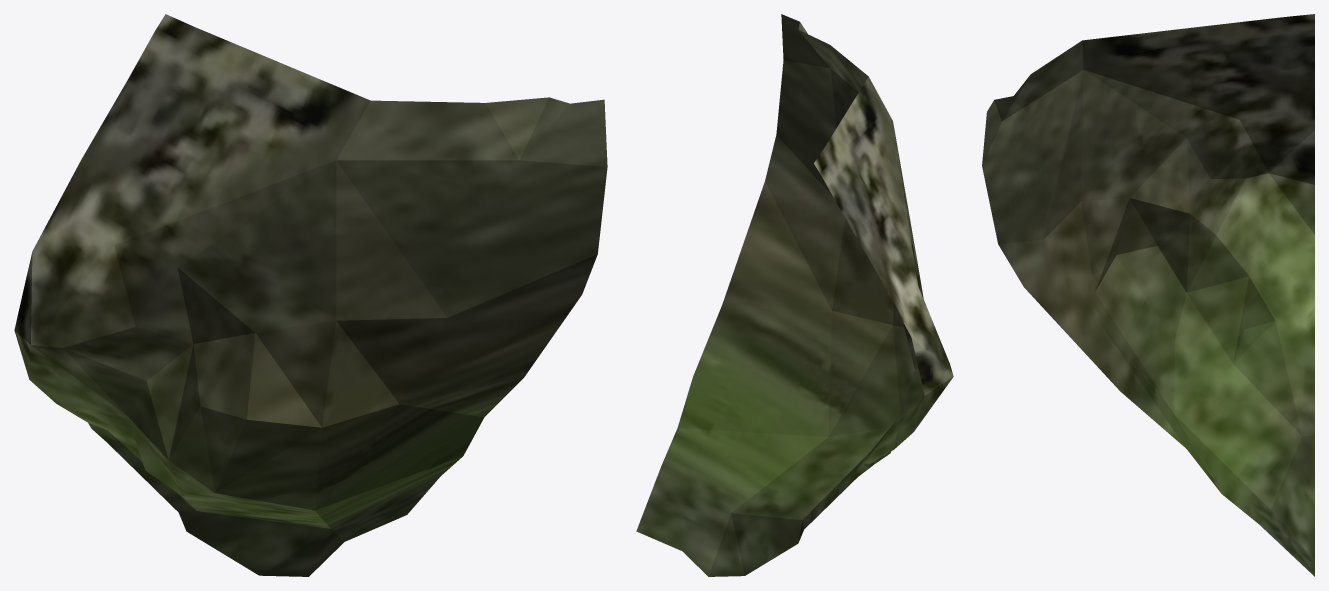
3 views of the same model, side by side, from view 1: azimuth 30°, elevation 25°; view 2: azimuth 150°, elevation 25°; view 3: azimuth 270°, elevation 25° (orthographic). The views are drawn at different scales.
Size of the model in its own units: 1.03 by 1.45 by 0.8832.
1 material, 1 textured.
